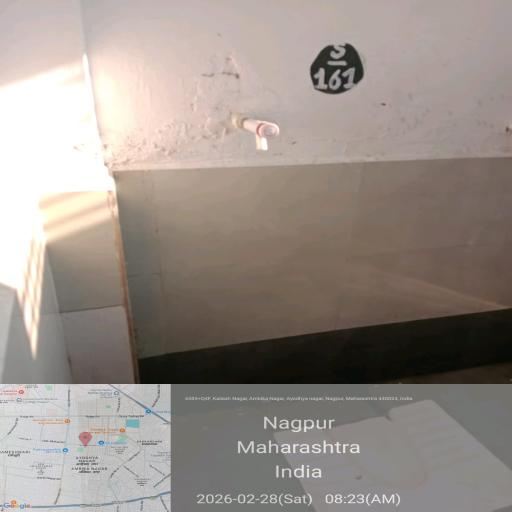clean_floor: (82, 96, 512, 329)
clean_indian: (242, 419, 512, 512)
